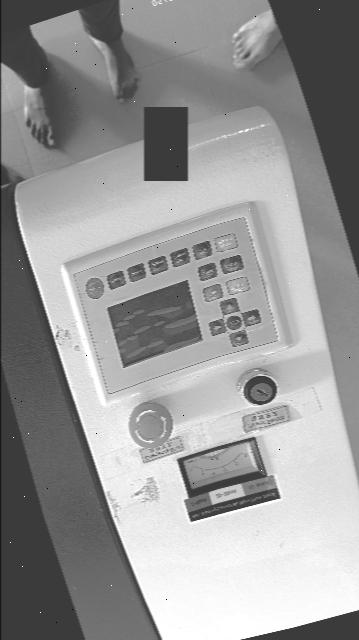Amp_Meter: (184, 442, 258, 488)
Display: (107, 280, 202, 368)
Down_button: (219, 298, 238, 315)
Emergency_Stop: (128, 401, 172, 449)
Enter_button: (226, 277, 249, 295)
Esc_button: (202, 284, 223, 302)
File_button: (192, 241, 212, 260)
Frame_button: (220, 255, 243, 274)
Left_button: (209, 319, 226, 336)
Max-Power_button: (170, 248, 190, 267)
Min-Power_button: (148, 256, 168, 275)
Origin_button: (198, 262, 217, 281)
Power_switch: (237, 369, 277, 405)
Pulse_button: (106, 271, 125, 290)
Reset_button: (85, 278, 103, 299)
Right_button: (242, 310, 261, 326)
Speed_button: (127, 263, 145, 282)
Start-Pause_button: (214, 233, 237, 252)
Up_button: (229, 330, 248, 347)
Z_U_button: (226, 316, 241, 330)
